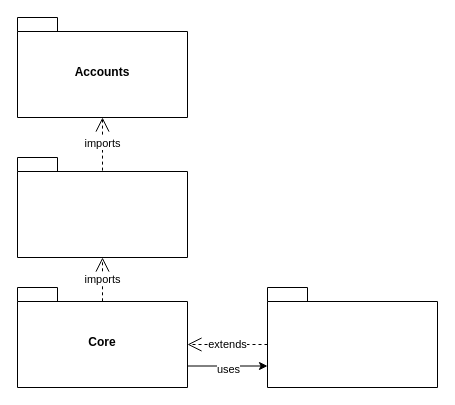
Image size: 455x405. Some labels were removed from this diagram. Each missing label, with the box of its shape:
Modules: (266, 286, 438, 388)
Reporting: (16, 156, 188, 258)
